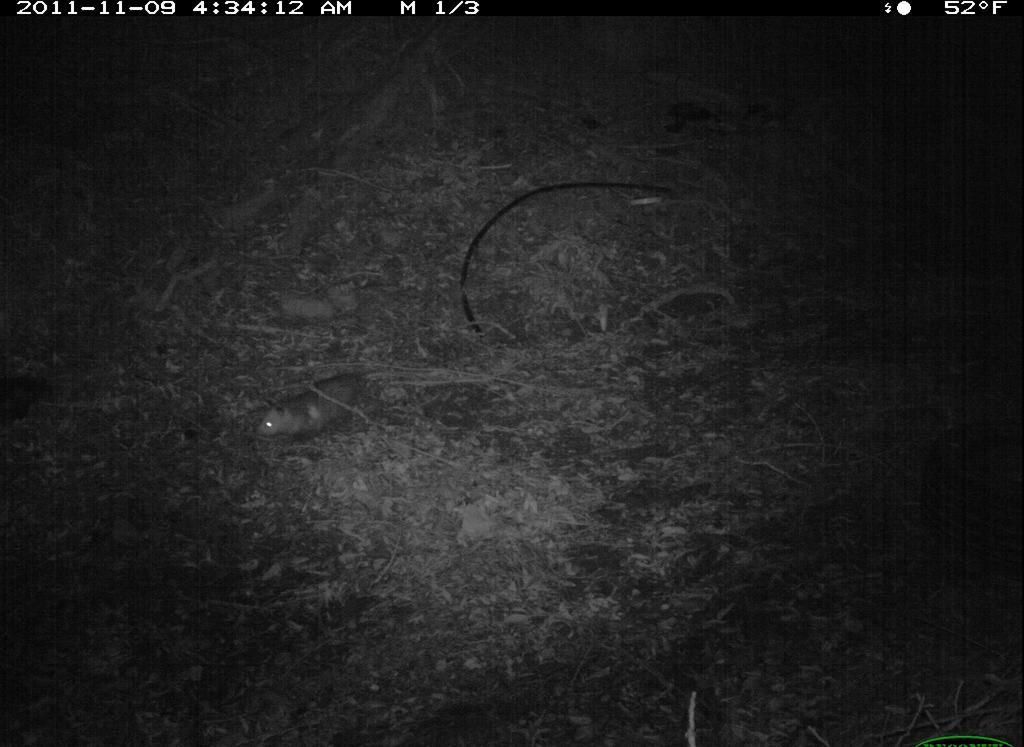opossum: (246, 363, 408, 447)
